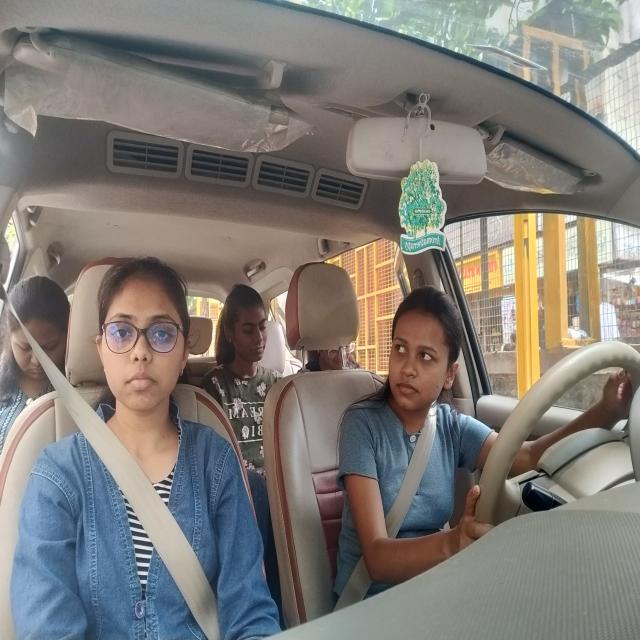LeftRight: (388, 280, 460, 420)
person: (100, 256, 190, 414), (9, 278, 70, 387), (222, 284, 268, 374), (307, 342, 362, 373)
